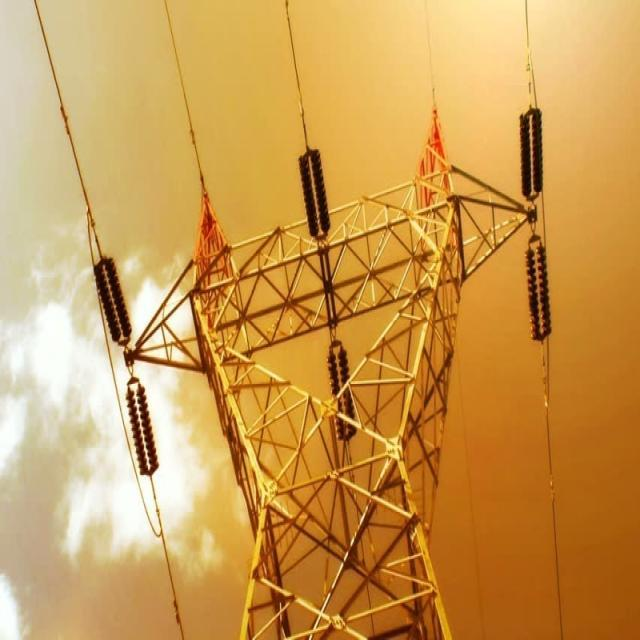non-critical vegetation: (152, 172, 529, 620)
